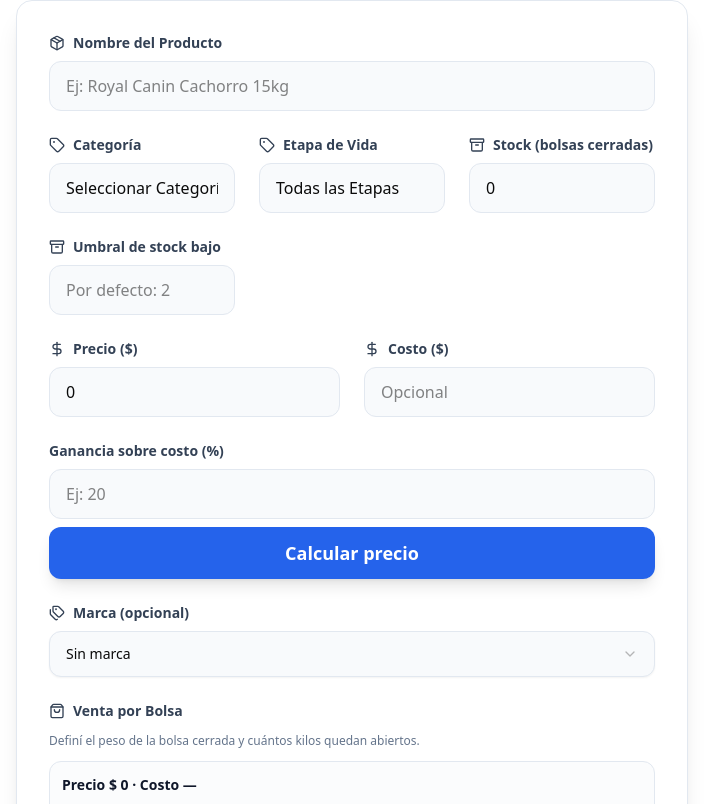
Test: Calculadora de precio (nuevo/editar producto) › calcula y redondea bien (costo 143166 con 20% da 171799)
In the number field with placeholder "Opcional": (510, 392) [364, 367, 655, 417], type "143166"
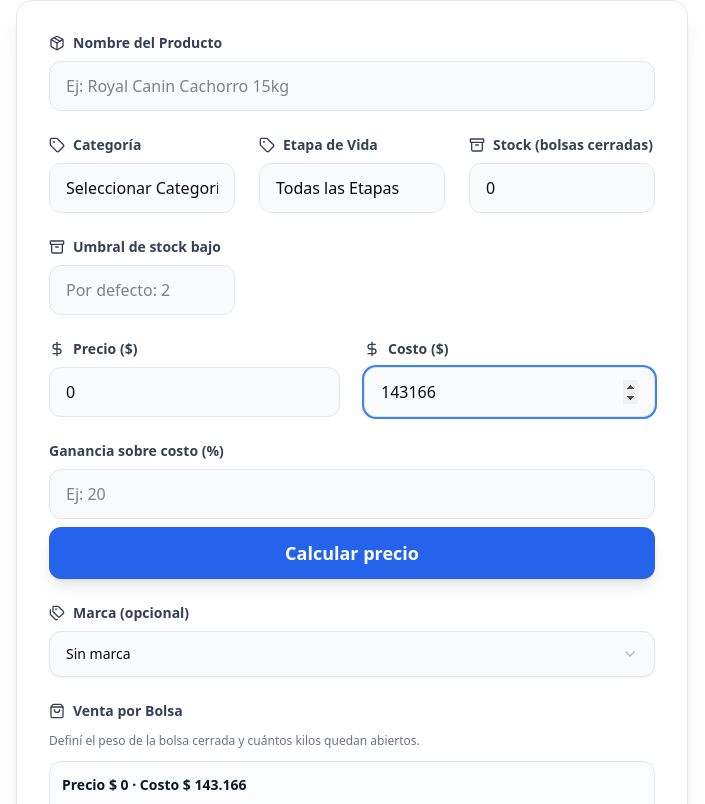
In the number field labelled "Ganancia sobre costo (%)": (352, 494) [49, 469, 655, 519], type "20"
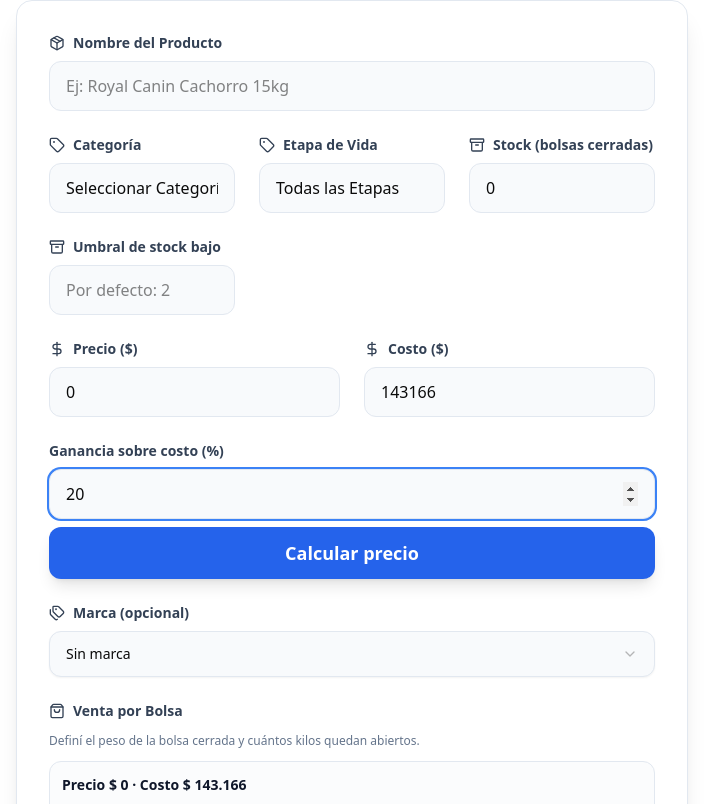
Click the button "Calcular precio": click(352, 553) [49, 527, 655, 579]
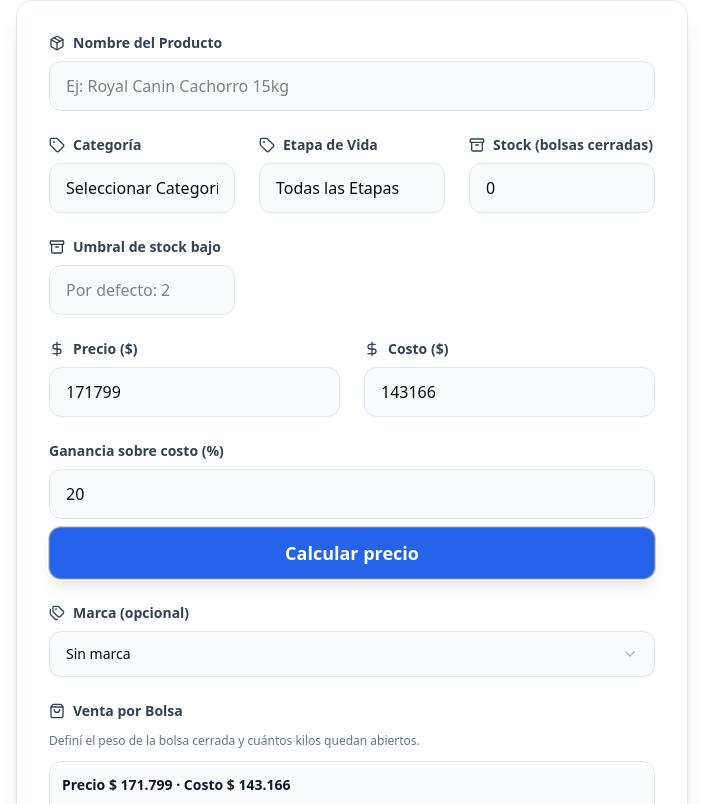
Result: the number field showing "171799" below "Precio ($)" is shown at [49, 367, 340, 417]
